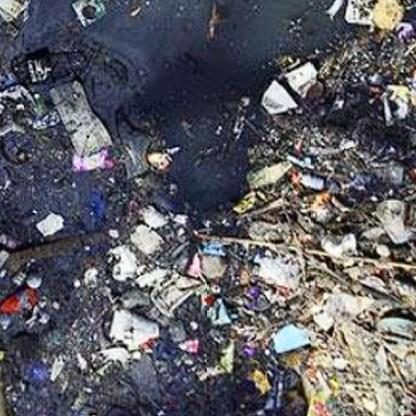Trash: (256, 58, 321, 116)
